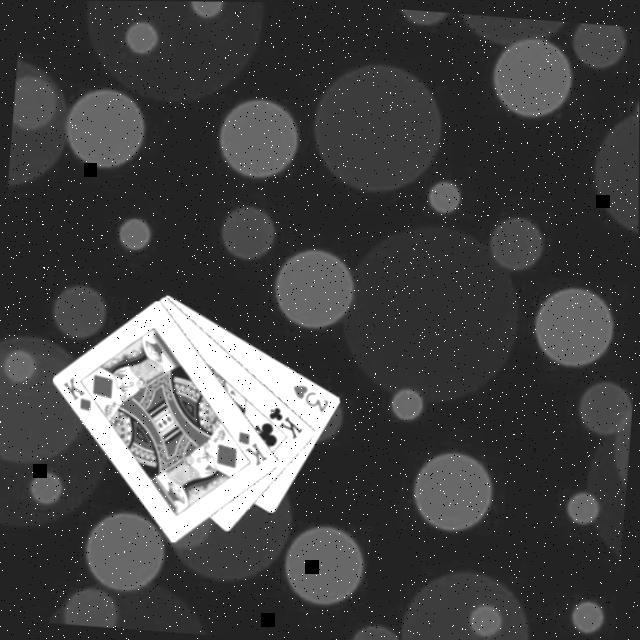3H: (291, 378, 335, 413)
KC: (258, 400, 309, 441)
KD: (235, 424, 274, 466), (60, 371, 99, 412)
